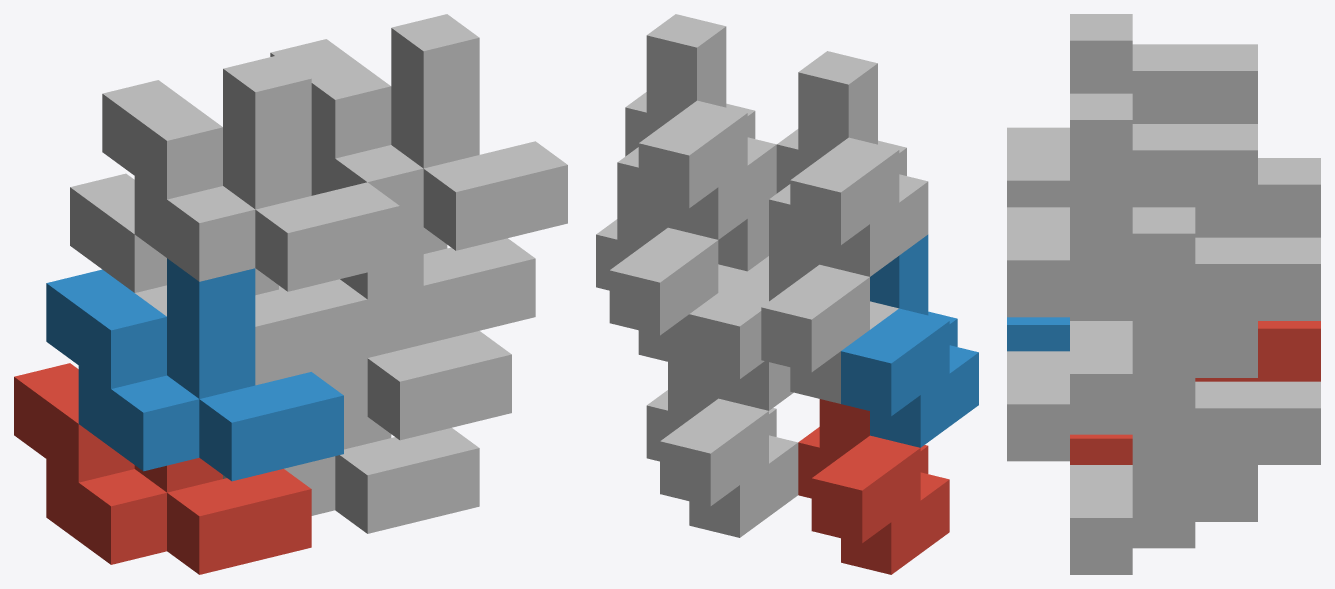
Rendered from tiling.obj.
The picture shows the model from 3 angles, left to right: view 1: azimuth 30°, elevation 25°; view 2: azimuth 150°, elevation 25°; view 3: azimuth 270°, elevation 25°; orthographic projection. The views are drawn at different scales.
Visible parts, largest first — view 1: copy_1_domain_4, copy_1_domain_2, copy_1_domain_8, copy_1_domain_1, copy_1_domain_6, copy_1_domain_3, copy_1_domain_5, copy_1_domain_7; view 2: copy_1_domain_8, copy_1_domain_4, copy_1_domain_5, copy_1_domain_1, copy_1_domain_2, copy_1_domain_7, copy_1_domain_3, copy_1_domain_6; view 3: copy_1_domain_7, copy_1_domain_5, copy_1_domain_8, copy_1_domain_4, copy_1_domain_6, copy_1_domain_3, copy_1_domain_1, copy_1_domain_2.
Boxes of the visible parts, <box> form: copy_1_domain_4: <box>102,55,399,291</box>; copy_1_domain_2: <box>46,258,343,481</box>; copy_1_domain_8: <box>270,14,567,250</box>; copy_1_domain_1: <box>14,363,311,574</box>; copy_1_domain_6: <box>279,227,511,440</box>; copy_1_domain_3: <box>70,173,367,385</box>; copy_1_domain_5: <box>223,417,479,533</box>; copy_1_domain_7: <box>423,227,535,344</box>; copy_1_domain_8: <box>625,14,776,239</box>; copy_1_domain_4: <box>776,51,928,276</box>; copy_1_domain_5: <box>646,362,798,537</box>; copy_1_domain_1: <box>798,399,949,574</box>; copy_1_domain_2: <box>841,234,978,447</box>; copy_1_domain_7: <box>596,147,747,366</box>; copy_1_domain_3: <box>748,184,898,403</box>; copy_1_domain_6: <box>689,203,793,410</box>; copy_1_domain_7: <box>1070,207,1320,430</box>; copy_1_domain_5: <box>1070,381,1320,574</box>; copy_1_domain_8: <box>1007,93,1257,317</box>; copy_1_domain_4: <box>1007,14,1257,207</box>; copy_1_domain_6: <box>1007,290,1132,461</box>; copy_1_domain_3: <box>1195,158,1320,237</box>; copy_1_domain_1: <box>1070,321,1320,464</box>; copy_1_domain_2: <box>1007,317,1069,351</box>.
Size of the model in its own units: 7 by 8 by 5.
